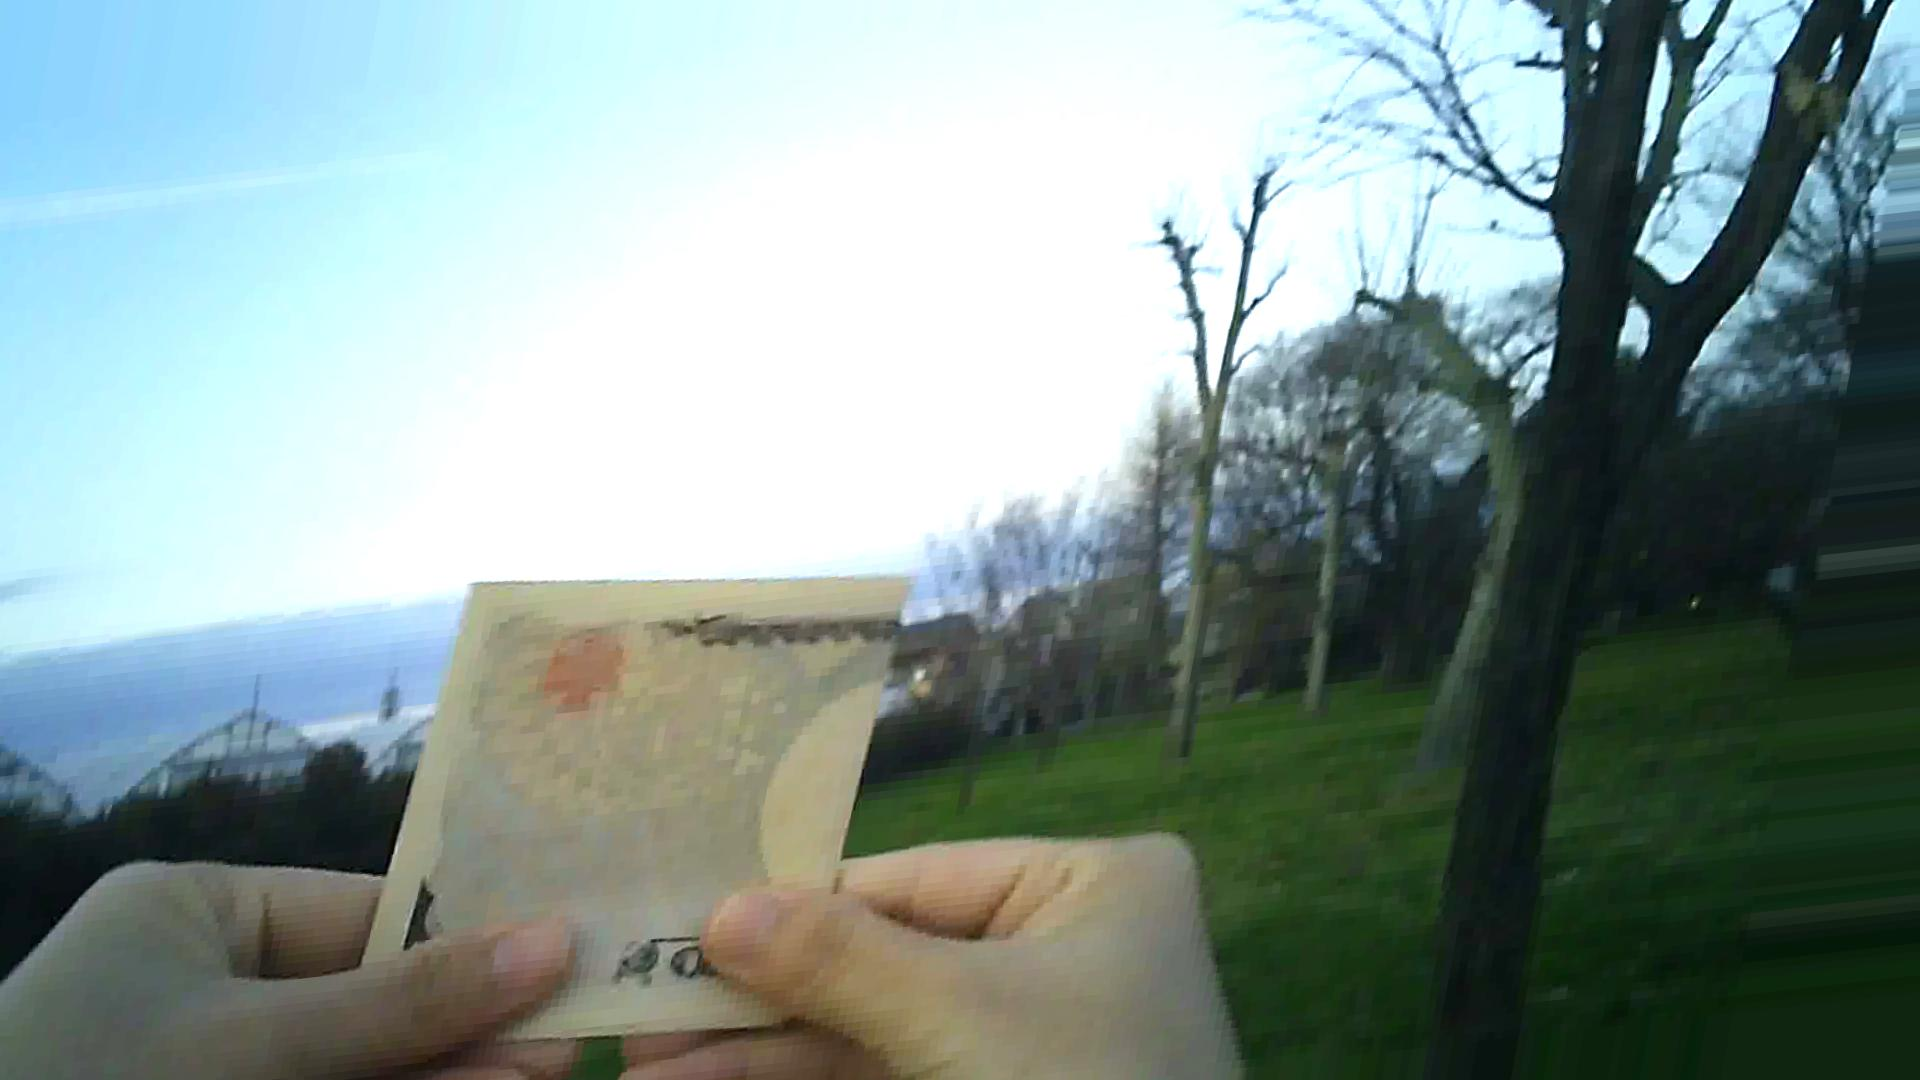10,000 Yen: (328, 570, 903, 1036)
